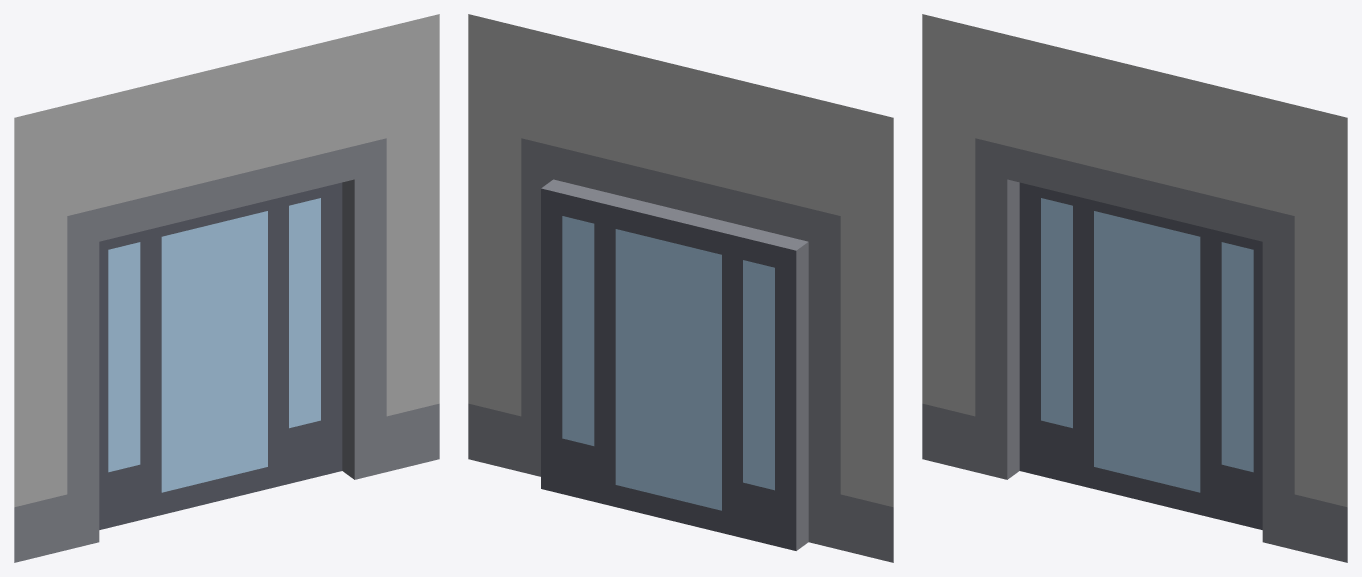
Rendered from wall_doorB.fbx.
3 views of the same model, side by side, from view 1: azimuth 30°, elevation 25°; view 2: azimuth 150°, elevation 25°; view 3: azimuth 330°, elevation 25° (orthographic).
Parts seen in each view (by area): view 1: wall_doorB; view 2: wall_doorB; view 3: wall_doorB.
Part boxes in pixels (bbox=[...]): wall_doorB: bbox=[14, 14, 439, 562]; wall_doorB: bbox=[468, 14, 893, 562]; wall_doorB: bbox=[922, 14, 1347, 562].
Size of the model in its own units: 4 by 4 by 0.2.
